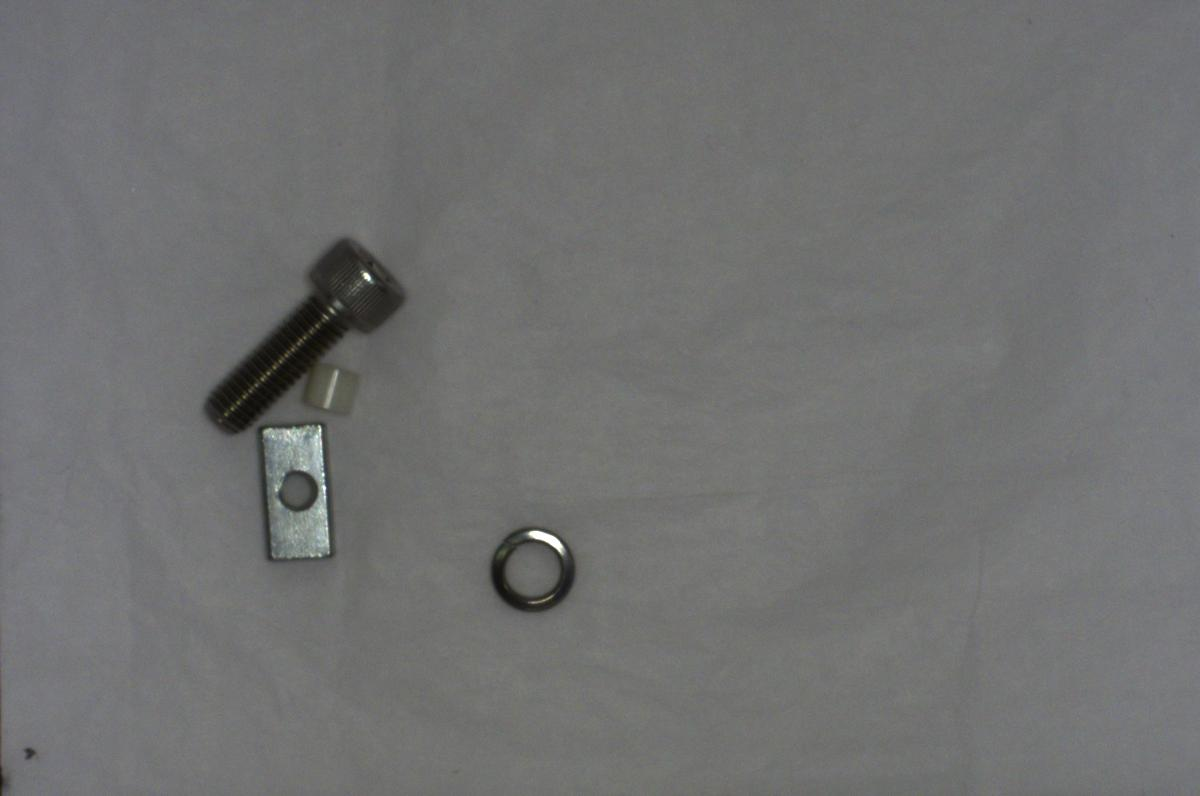Hexagon screw: (197, 228, 413, 426)
Plastic cushion pillar: (298, 360, 364, 420)
Rectangular nut: (252, 419, 340, 567)
Spring washer: (480, 510, 592, 619)
